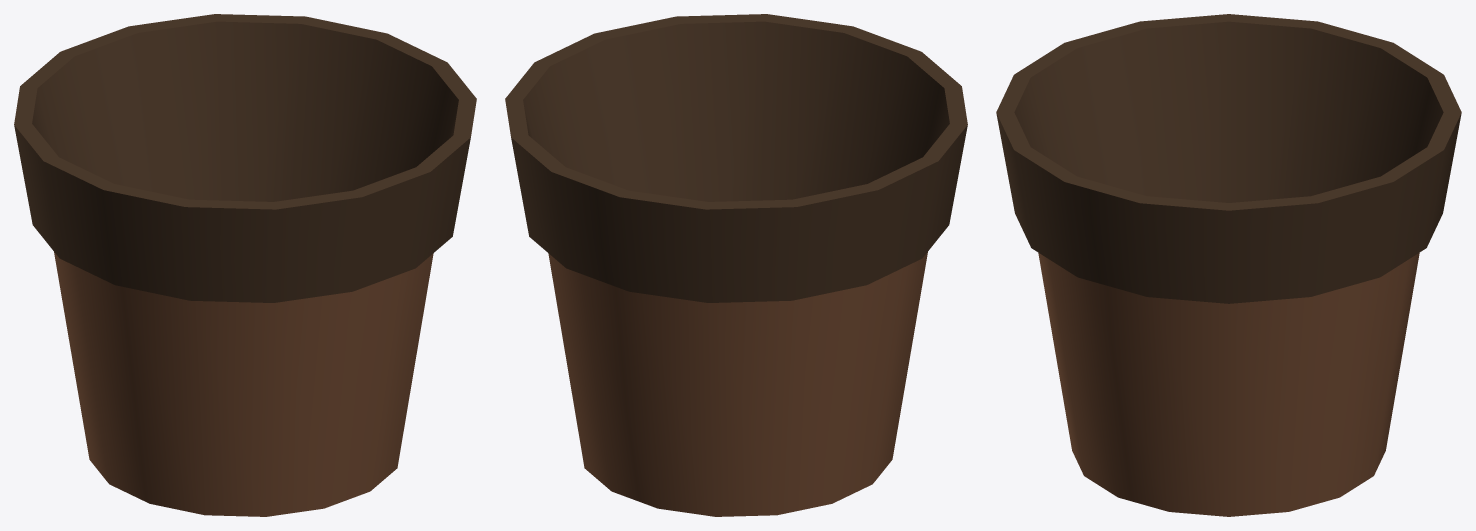
File: Pot.fbx
3 views of the same model, side by side, from view 1: azimuth 30°, elevation 25°; view 2: azimuth 150°, elevation 25°; view 3: azimuth 270°, elevation 25° (orthographic).
Visible parts, largest first — view 1: Pot; view 2: Pot; view 3: Pot.
Boxes of the visible parts, box(x1,y1,x2,y2) form: Pot: box(14, 14, 476, 516); Pot: box(505, 14, 967, 516); Pot: box(996, 14, 1461, 516).
Bounding box in the file's own units: 99.39 × 79.7 × 99.39.
